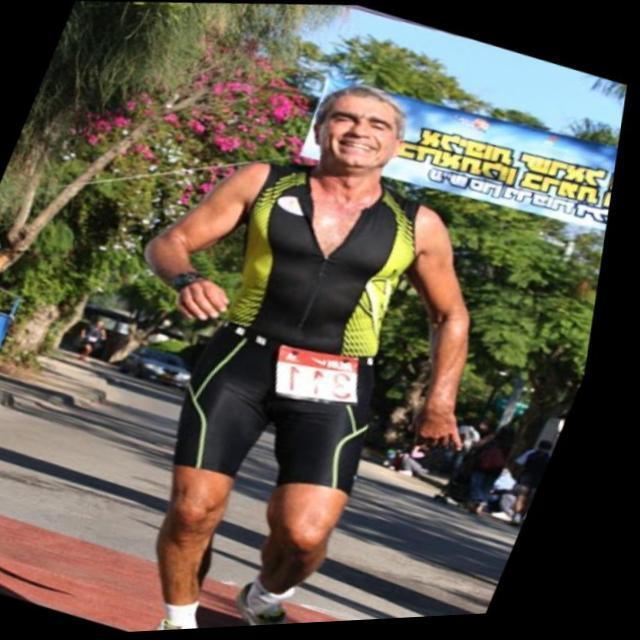dorsal: (265, 324, 396, 422)
